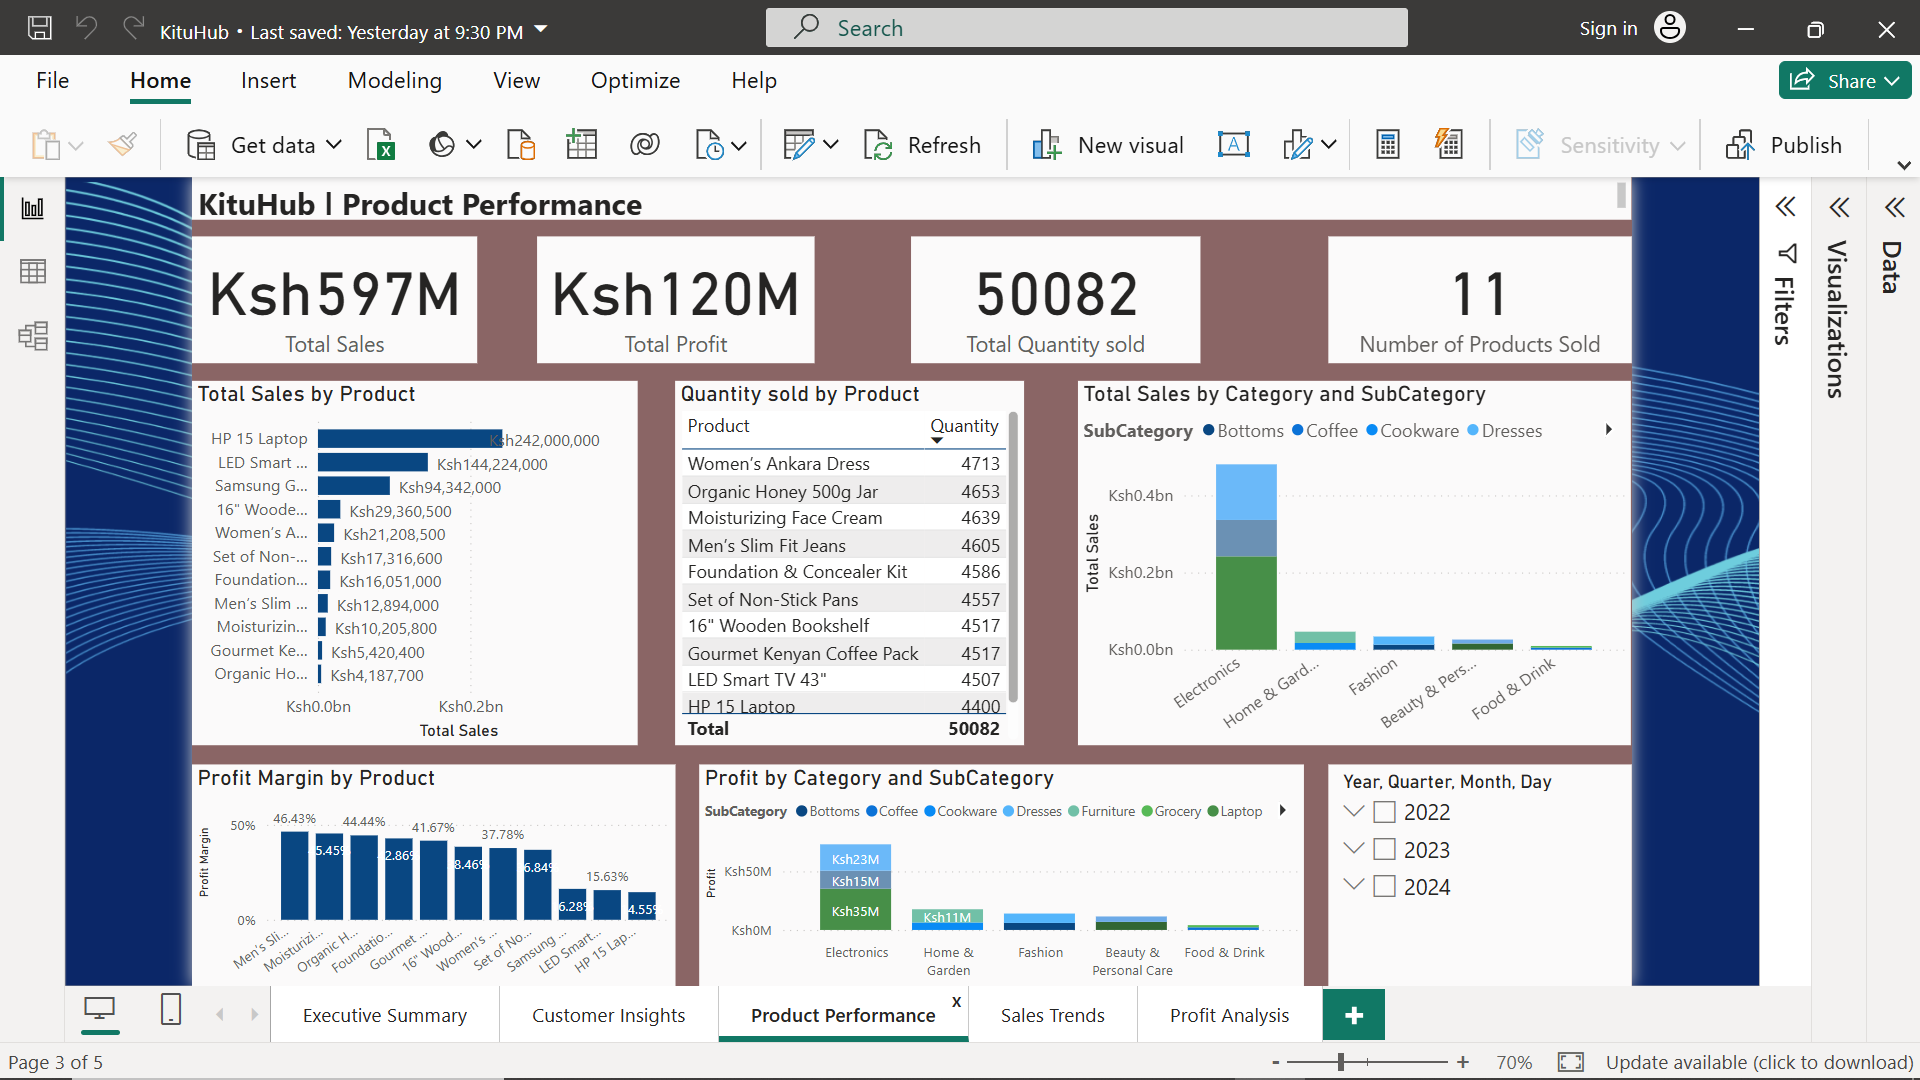

What the dashboard file says about the page in this screenshot:
{"tool":"powerbi","page":{"name":"Product Performance","canvas":[1280,720],"ordinal":2},"visuals":[{"type":"textbox","box":[0,0,1280,38],"z":0},{"type":"card","fields":{"Values":["Sum(sales.OrderTotal (KES))"]},"box":[0,52.9,253.8,112.8],"z":1000},{"type":"card","fields":{"Values":["Sum(sales.Profit)"]},"box":[306.6,52.9,246.7,112.8],"z":2000},{"type":"card","fields":{"Values":["Sum(sales.Quantity)"]},"box":[639.7,52.9,257.3,112.8],"z":3000},{"type":"card","fields":{"Values":["Count(sales.ProductID)"]},"box":[1009.8,52.9,269.6,112.8],"z":4000},{"type":"clusteredBarChart","fields":{"Y":["Sum(sales.OrderTotal (KES))"],"Category":["Products.ProductName"]},"box":[0,181.5,396.5,324.3],"z":5000},{"type":"columnChart","fields":{"Category":["Products.Category"],"Series":["Products.SubCategory"],"Y":["Sum(sales.Profit)"]},"box":[451.2,521.7,537.5,199.1],"z":6000},{"type":"tableEx","title":"Quantity sold by Product","fields":{"Values":["Products.ProductName","Sum(sales.Quantity)"]},"box":[430,181.5,310.2,324.3],"z":7000},{"type":"clusteredColumnChart","fields":{"Y":["_Measures.Profit Margin"],"Category":["Products.ProductName"]},"box":[0,521.7,430,199.1],"z":8000},{"type":"slicer","fields":{"Values":["Date - Sheet1.Date.Variation.Date Hierarchy.Year","Date - Sheet1.Date.Variation.Date Hierarchy.Quarter","Date - Sheet1.Date.Variation.Date Hierarchy.Month","Date - Sheet1.Date.Variation.Date Hierarchy.Day"]},"box":[1009.8,521.7,269.6,199.1],"z":9000},{"type":"columnChart","fields":{"Category":["Products.Category"],"Series":["Products.SubCategory"],"Y":["Sum(sales.OrderTotal (KES))"]},"box":[787.8,181.5,491.7,324.3],"z":10000}]}

Visuals, with their boxes on the page's 1280x720 design canvas (x1, y1, x2, y2). These are canvas units, not pixel positions in the 1920x1080 screenshot, which may show the page scaled, cropped or inside an application window:
textbox: crop(0, 0, 1280, 38)
card - Sum(sales.OrderTotal (KES)): crop(0, 53, 254, 166)
card - Sum(sales.Profit): crop(307, 53, 553, 166)
card - Sum(sales.Quantity): crop(640, 53, 897, 166)
card - Count(sales.ProductID): crop(1010, 53, 1279, 166)
clusteredBarChart - Sum(sales.OrderTotal (KES)) x Products.ProductName: crop(0, 182, 396, 506)
columnChart - Products.Category x Products.SubCategory: crop(451, 522, 989, 721)
"Quantity sold by Product" tableEx: crop(430, 182, 740, 506)
clusteredColumnChart - _Measures.Profit Margin x Products.ProductName: crop(0, 522, 430, 721)
slicer - Date - Sheet1.Date.Variation.Date Hierarchy.Year x Date - Sheet1.Date.Variation.Date Hierarchy.Quarter: crop(1010, 522, 1279, 721)
columnChart - Products.Category x Products.SubCategory: crop(788, 182, 1280, 506)
